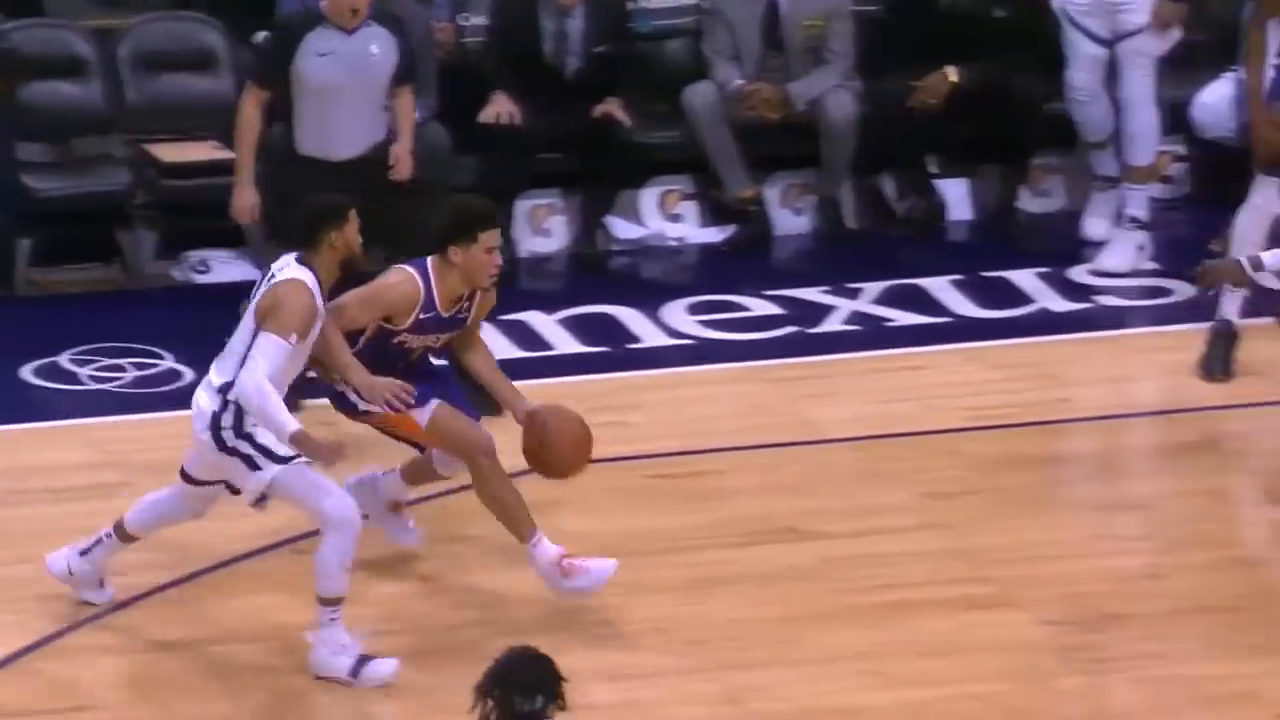ball: (521, 405, 593, 479)
